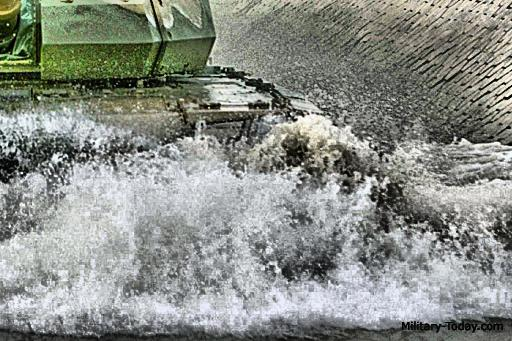tanks: (1, 1, 301, 138)
